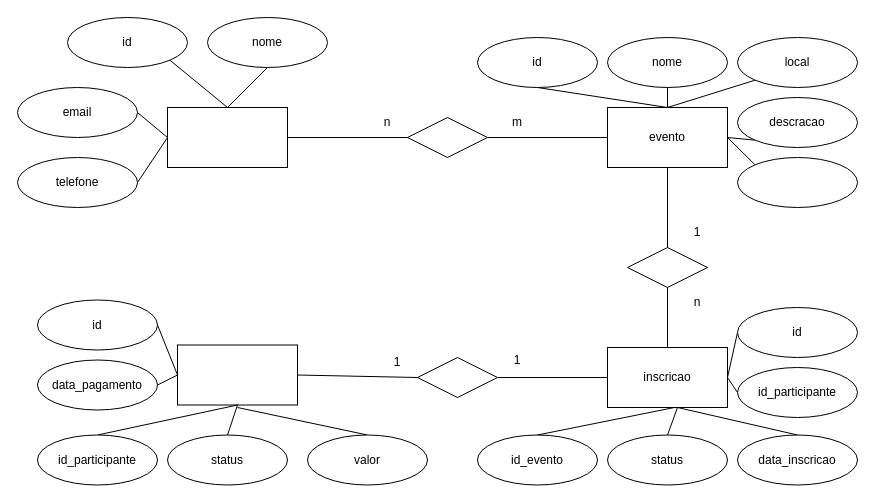
Some shapes in this 875 by 503 pixel diagram are drawn without their labels. The shapes that lost their labels are listed below. From the top down, each one's centre as x and y in pixels, then its label:
(x=227, y=137): participante
(x=447, y=137): participa
(x=797, y=182): data
(x=667, y=267): inscreve
(x=237, y=374): pagamento
(x=457, y=377): paga
